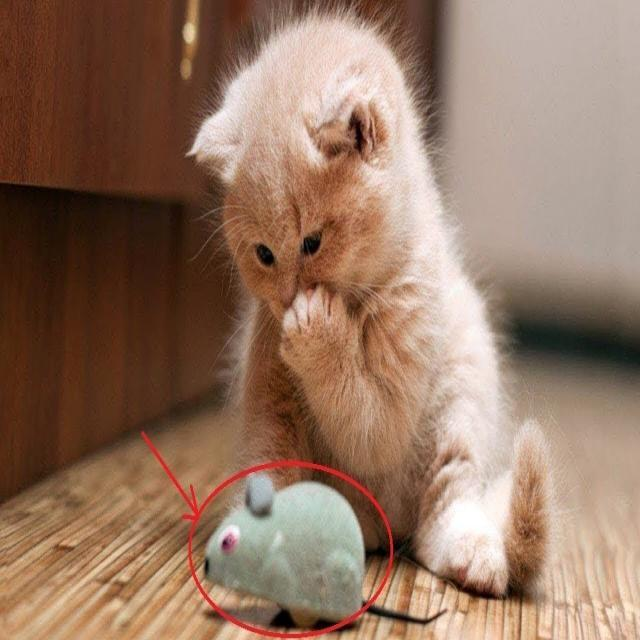cat: (196, 4, 564, 594)
